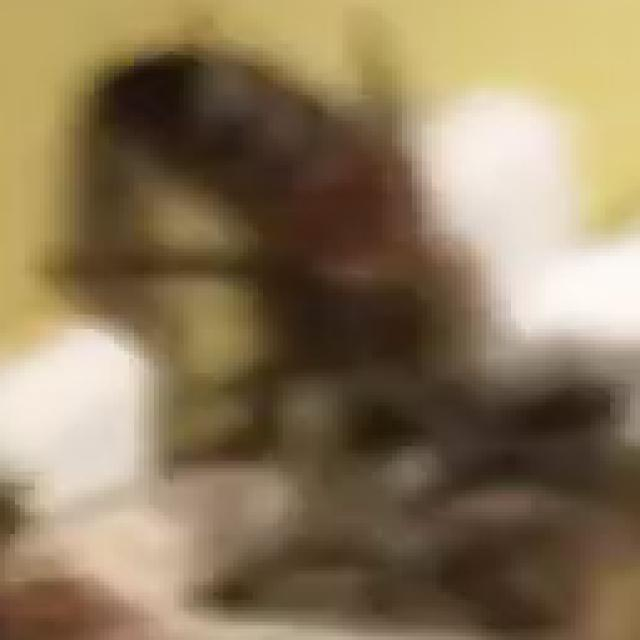honeybee: (93, 27, 637, 640)
